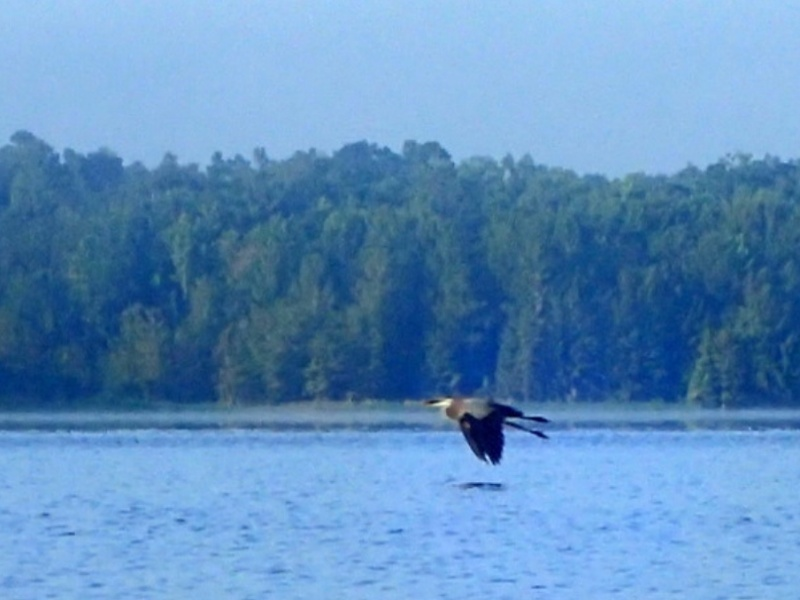heron: (419, 389, 553, 470)
